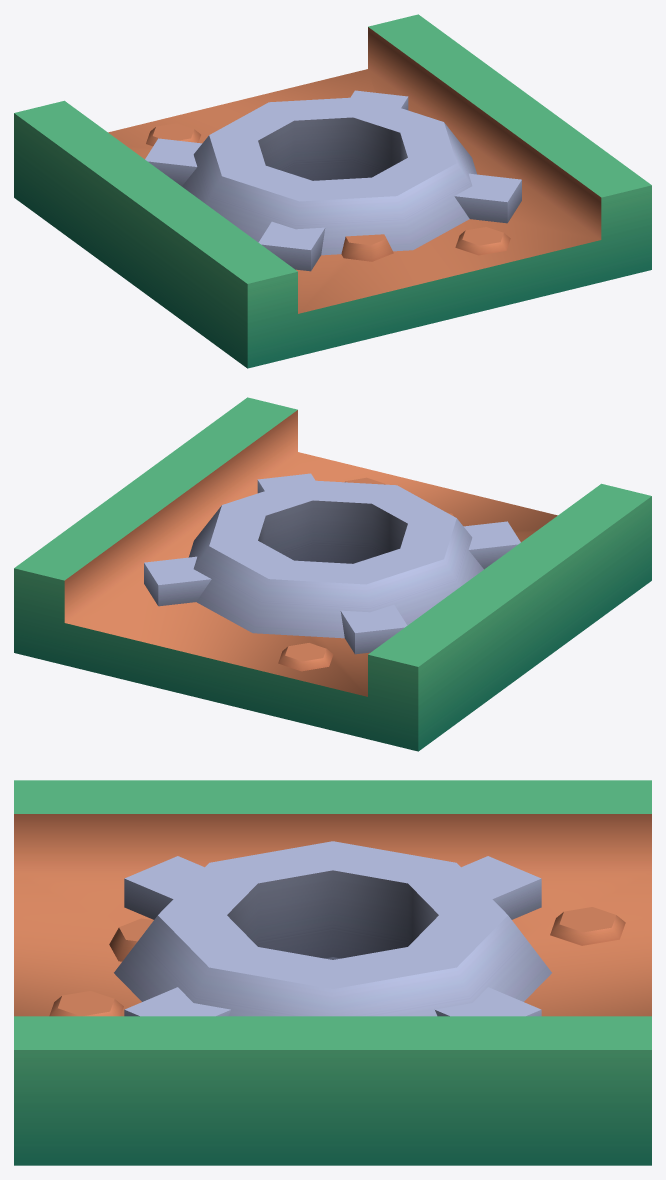
The model's file is kenney-tower-defense-tile-spawn-round.glb.
3 renders of one model, top to bottom at view 1: azimuth 30°, elevation 25°; view 2: azimuth 150°, elevation 25°; view 3: azimuth 270°, elevation 25°, orthographic. The views are drawn at different scales.
Parts seen in each view (by area): view 1: tile-spawn-round; view 2: tile-spawn-round; view 3: tile-spawn-round.
Boxes of the visible parts, x1,y1,x2,y2 form: tile-spawn-round: (14,14,651,368); tile-spawn-round: (14,397,651,751); tile-spawn-round: (14,780,651,1165).
Bounding box in the file's own units: 1 × 0.2 × 1.
Materials: 1 (1 with a texture image).
